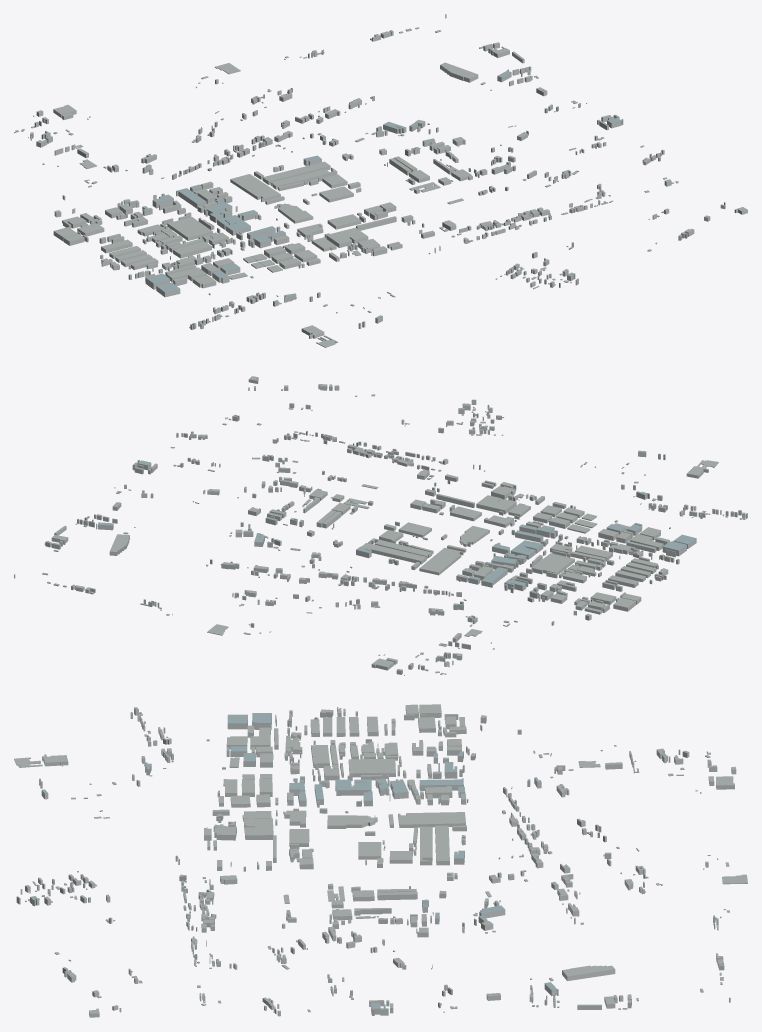
File: far.glb
The picture shows the model from 3 angles, top to bottom: view 1: azimuth 30°, elevation 25°; view 2: azimuth 150°, elevation 25°; view 3: azimuth 270°, elevation 25°; orthographic projection. The views are drawn at different scales.
Bounding box in the file's own units: 2128 × 22.8 × 2140.
